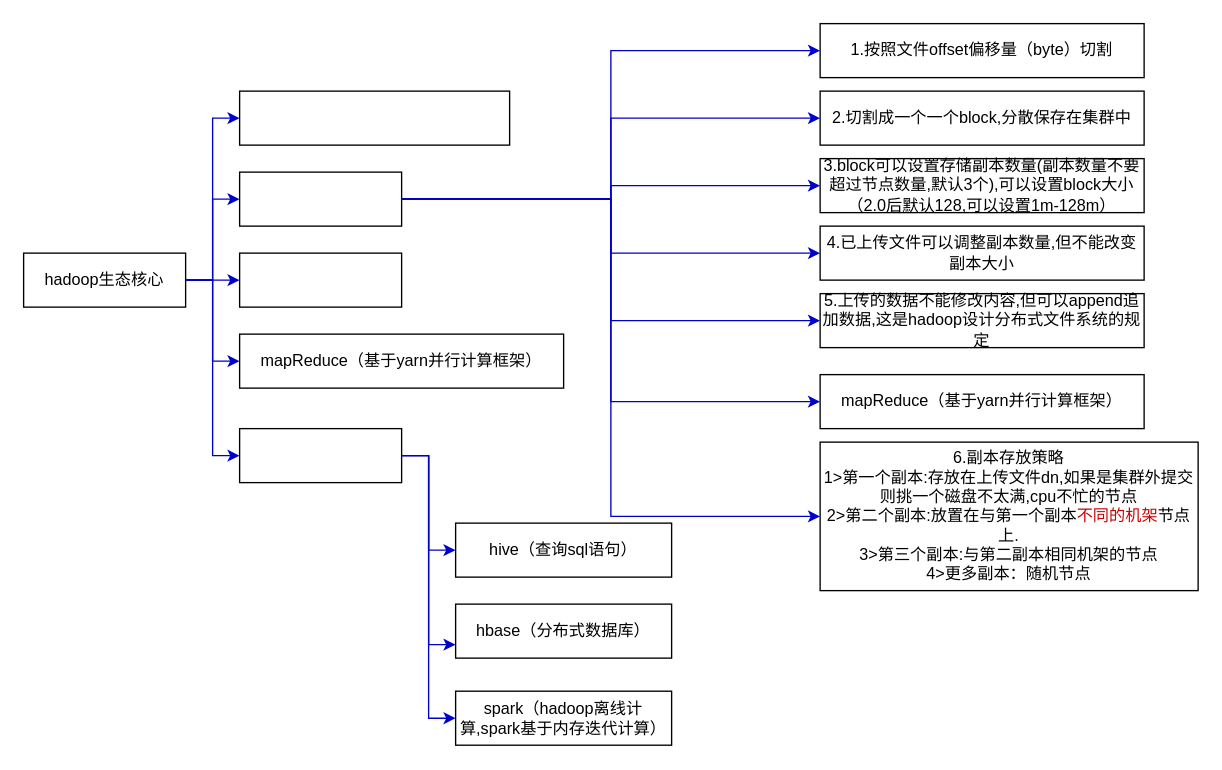
Some shapes in this 1222 by 770 pixel diagram are drawn without their labels. The shapes that lost their labels are listed below. From the top down, each one's centre as x and y in pixels, then its label:
At [374,117]: "common（hadoop工具类）".
At [320,198]: "hdfs（文件系统）".
At [320,279]: "yarn（job资源管理）".
At [320,455]: "其他模块".
